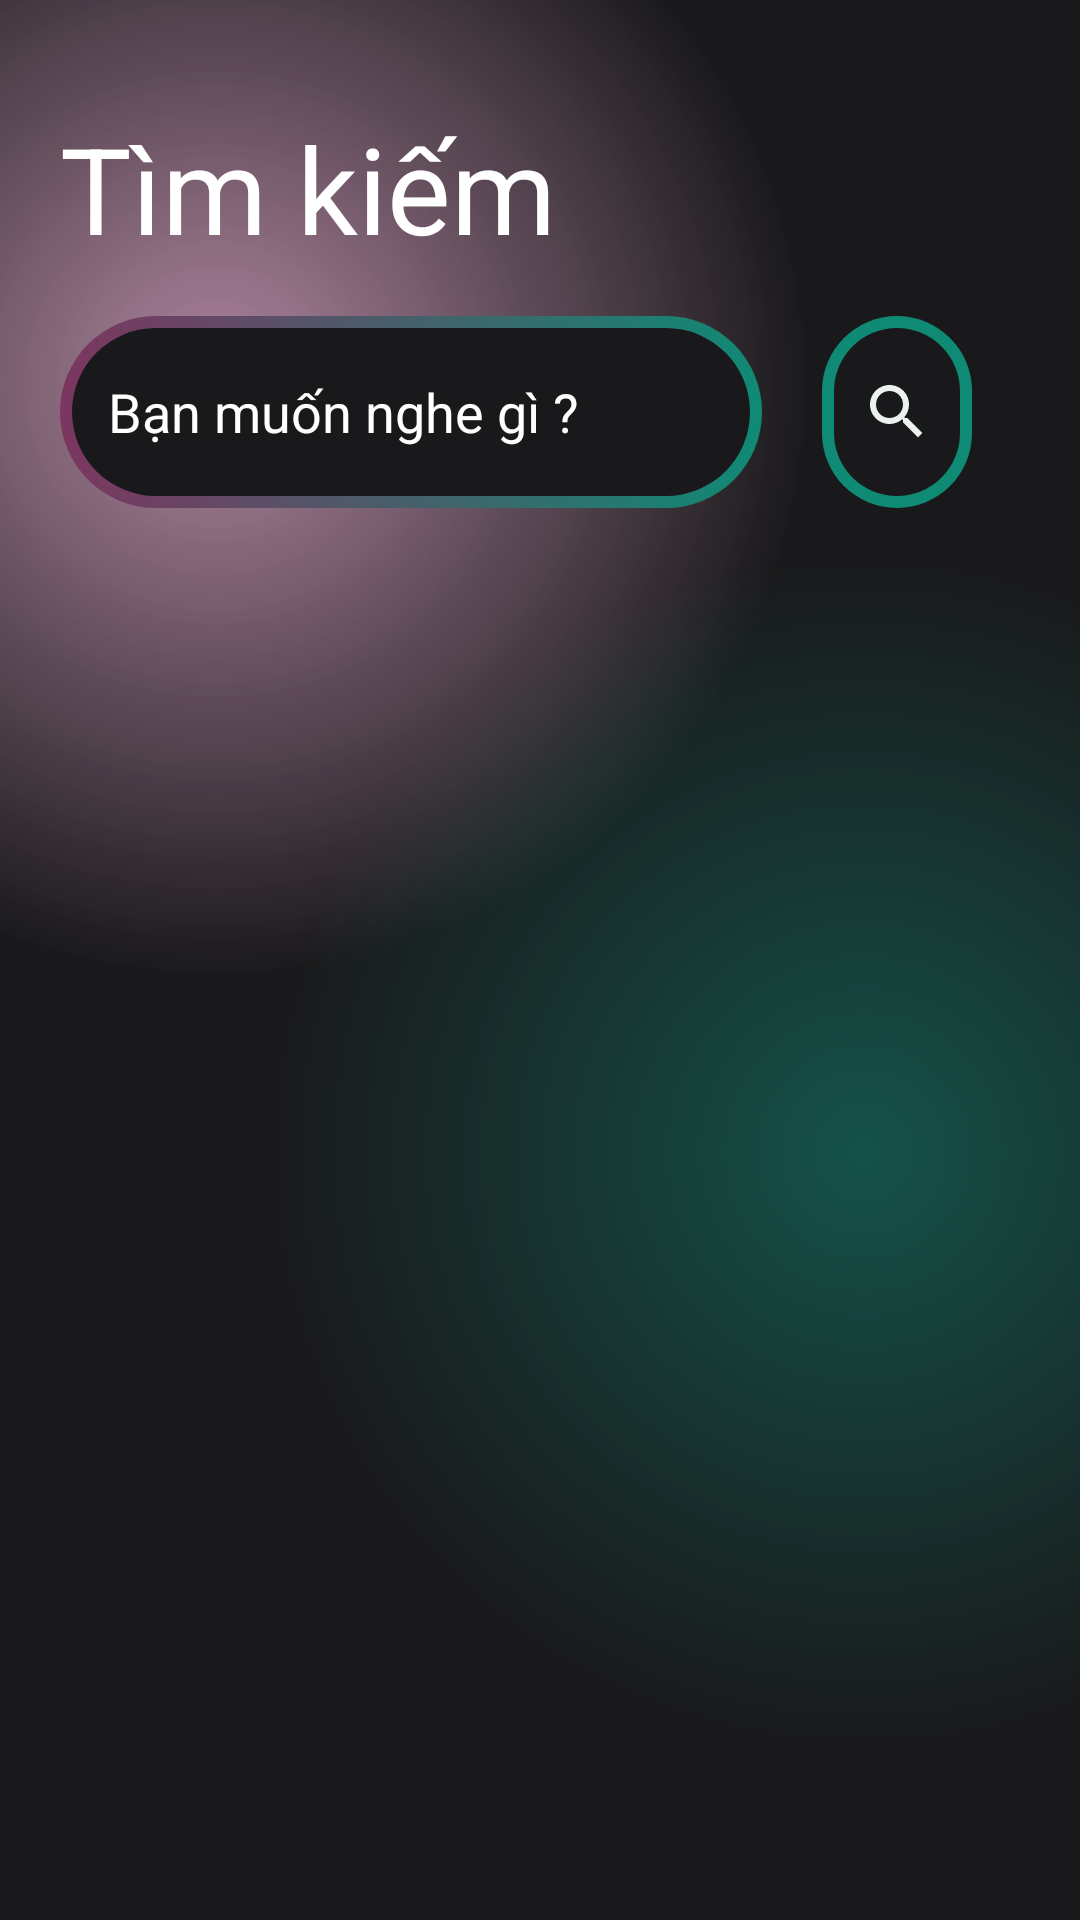

Point at icon controls on the screen. Image size 1080px×1920px, points as (x,y).
mini search: (897,412)
